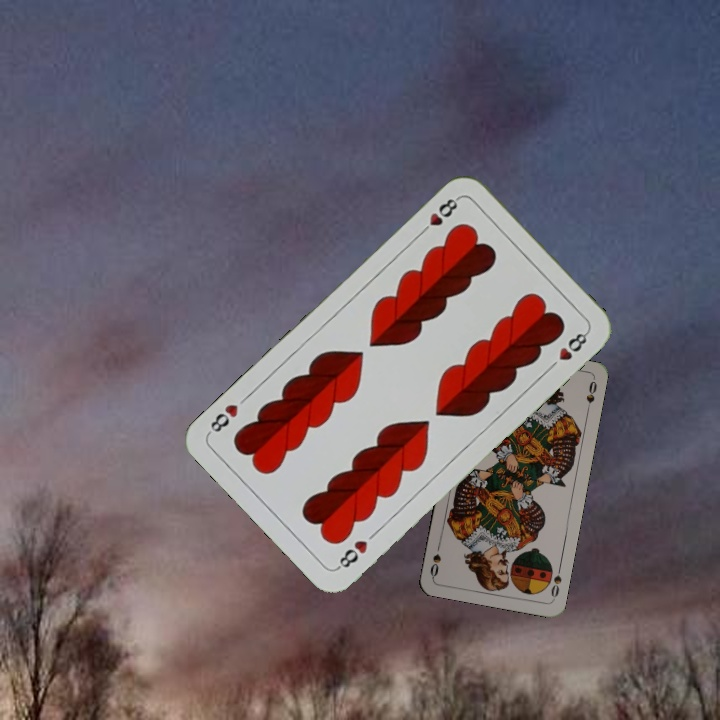H8: (415, 193, 463, 238), (333, 536, 371, 573)
SO: (547, 562, 564, 602)
